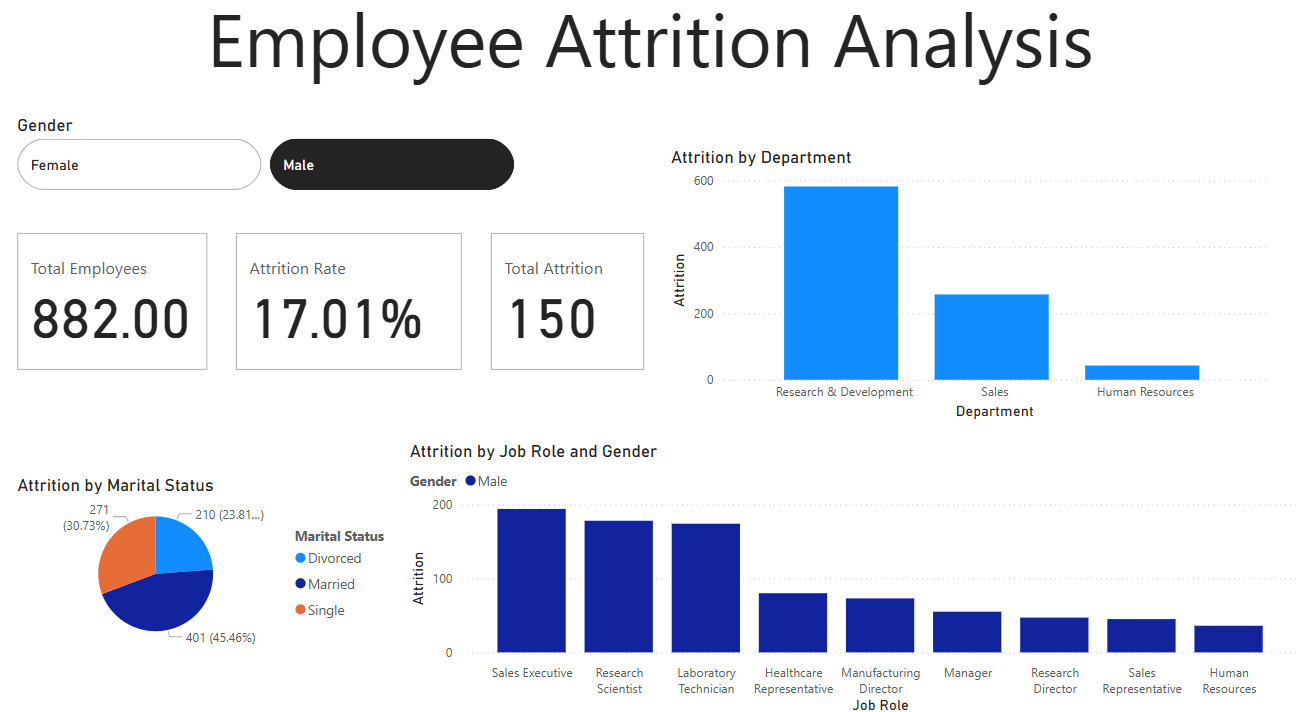

The dashboard page shown, as its layout file describes it:
{"tool":"powerbi","page":{"name":"Employee Attrition Overview – IBM HR Analytics","canvas":[1280,720],"ordinal":0},"visuals":[{"type":"columnChart","title":"Attrition by Department","fields":{"Category":["WA_Fn-UseC_-HR-Employee-Attrition.Department"],"Y":["CountNonNull(WA_Fn-UseC_-HR-Employee-Attrition.Attrition)"]},"box":[656,160,592,272],"z":0},{"type":"cardVisual","fields":{"Data":["WA_Fn-UseC_-HR-Employee-Attrition.Total Attrition"]},"box":[479.5,240,160.5,144],"z":0,"group":"g4"},{"type":"cardVisual","fields":{"Data":["WA_Fn-UseC_-HR-Employee-Attrition.Attrition Rate"]},"box":[229.9,240,231.8,144],"z":1000,"group":"g4"},{"type":"columnChart","title":"Attrition by Job Role and Gender","fields":{"Category":["WA_Fn-UseC_-HR-Employee-Attrition.JobRole"],"Y":["CountNonNull(WA_Fn-UseC_-HR-Employee-Attrition.Attrition)"],"Series":["WA_Fn-UseC_-HR-Employee-Attrition.Gender"]},"box":[416,448,864,272],"z":1000},{"type":"cardVisual","fields":{"Data":["WA_Fn-UseC_-HR-Employee-Attrition.Total Employees"]},"box":[16,240,196.1,144],"z":2000,"group":"g4"},{"type":"pieChart","title":"Attrition by Marital Status","fields":{"Y":["CountNonNull(WA_Fn-UseC_-HR-Employee-Attrition.Attrition)"],"Series":["WA_Fn-UseC_-HR-Employee-Attrition.MaritalStatus"]},"box":[16,544,368,176],"z":2000},{"type":"group","id":"g1","title":"Group 1","box":[16,240,624,144],"z":3000},{"type":"group","id":"g2","title":"Group 2","box":[16,240,624,144],"z":3001,"group":"g1"},{"type":"group","id":"g3","title":"Group 3","box":[16,240,624,144],"z":3001,"group":"g2"},{"type":"group","id":"g4","title":"Group 4","box":[16,240,624,144],"z":3001,"group":"g3"},{"type":"textbox","box":[0,0,1280,112],"z":4000},{"type":"advancedSlicerVisual","fields":{"Values":["WA_Fn-UseC_-HR-Employee-Attrition.Gender"]},"box":[16,128,496,80],"z":5000}]}

Visuals, with their boxes in screenshot pixels (x1, y1, x2, y2), scaled from the page's 1280x720 canvas onto the 1298x712 screenshot:
"Attrition by Department" columnChart: locate(665, 158, 1266, 427)
cardVisual - WA_Fn-UseC_-HR-Employee-Attrition.Total Attrition: locate(486, 237, 649, 380)
cardVisual - WA_Fn-UseC_-HR-Employee-Attrition.Attrition Rate: locate(233, 237, 468, 380)
"Attrition by Job Role and Gender" columnChart: locate(422, 443, 1297, 711)
cardVisual - WA_Fn-UseC_-HR-Employee-Attrition.Total Employees: locate(16, 237, 215, 380)
"Attrition by Marital Status" pieChart: locate(16, 538, 389, 711)
"Group 1" group: locate(16, 237, 649, 380)
"Group 2" group: locate(16, 237, 649, 380)
"Group 3" group: locate(16, 237, 649, 380)
"Group 4" group: locate(16, 237, 649, 380)
textbox: locate(0, 0, 1297, 111)
advancedSlicerVisual - WA_Fn-UseC_-HR-Employee-Attrition.Gender: locate(16, 127, 519, 206)
